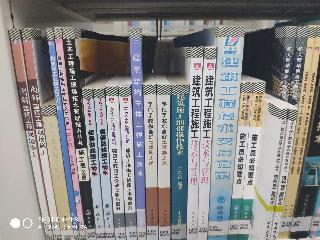book-spine: (9, 28, 54, 240), (203, 25, 245, 240), (276, 25, 317, 239), (22, 28, 60, 240), (282, 26, 320, 238), (64, 27, 96, 240), (47, 28, 79, 240), (55, 28, 86, 239), (237, 82, 264, 240), (43, 104, 73, 240), (227, 82, 252, 240), (196, 47, 216, 240), (269, 109, 297, 239), (130, 28, 146, 239), (83, 90, 105, 240), (186, 47, 203, 240), (263, 108, 287, 239), (95, 89, 114, 239), (107, 88, 125, 240), (119, 87, 137, 239), (171, 86, 188, 239), (144, 85, 158, 239), (158, 86, 170, 239), (289, 26, 308, 107), (278, 26, 296, 101)
